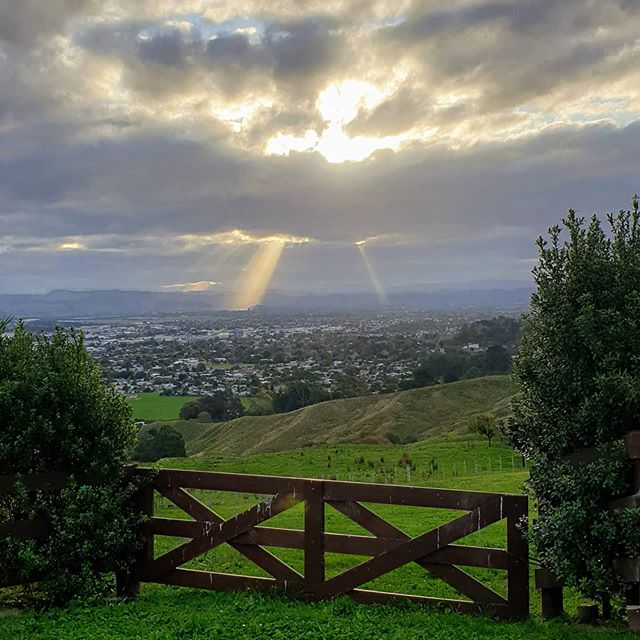gate: (129, 462, 534, 625)
sky: (7, 5, 640, 312)
tree: (516, 222, 640, 611), (1, 331, 134, 623)
